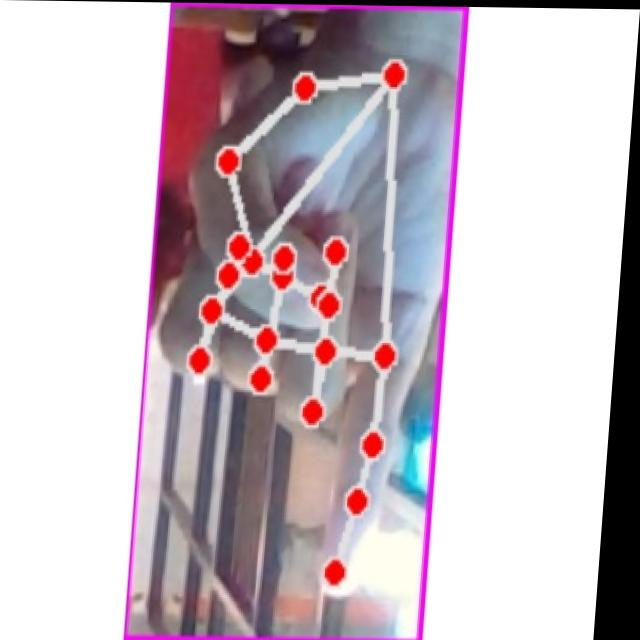I: (158, 33, 455, 610)
